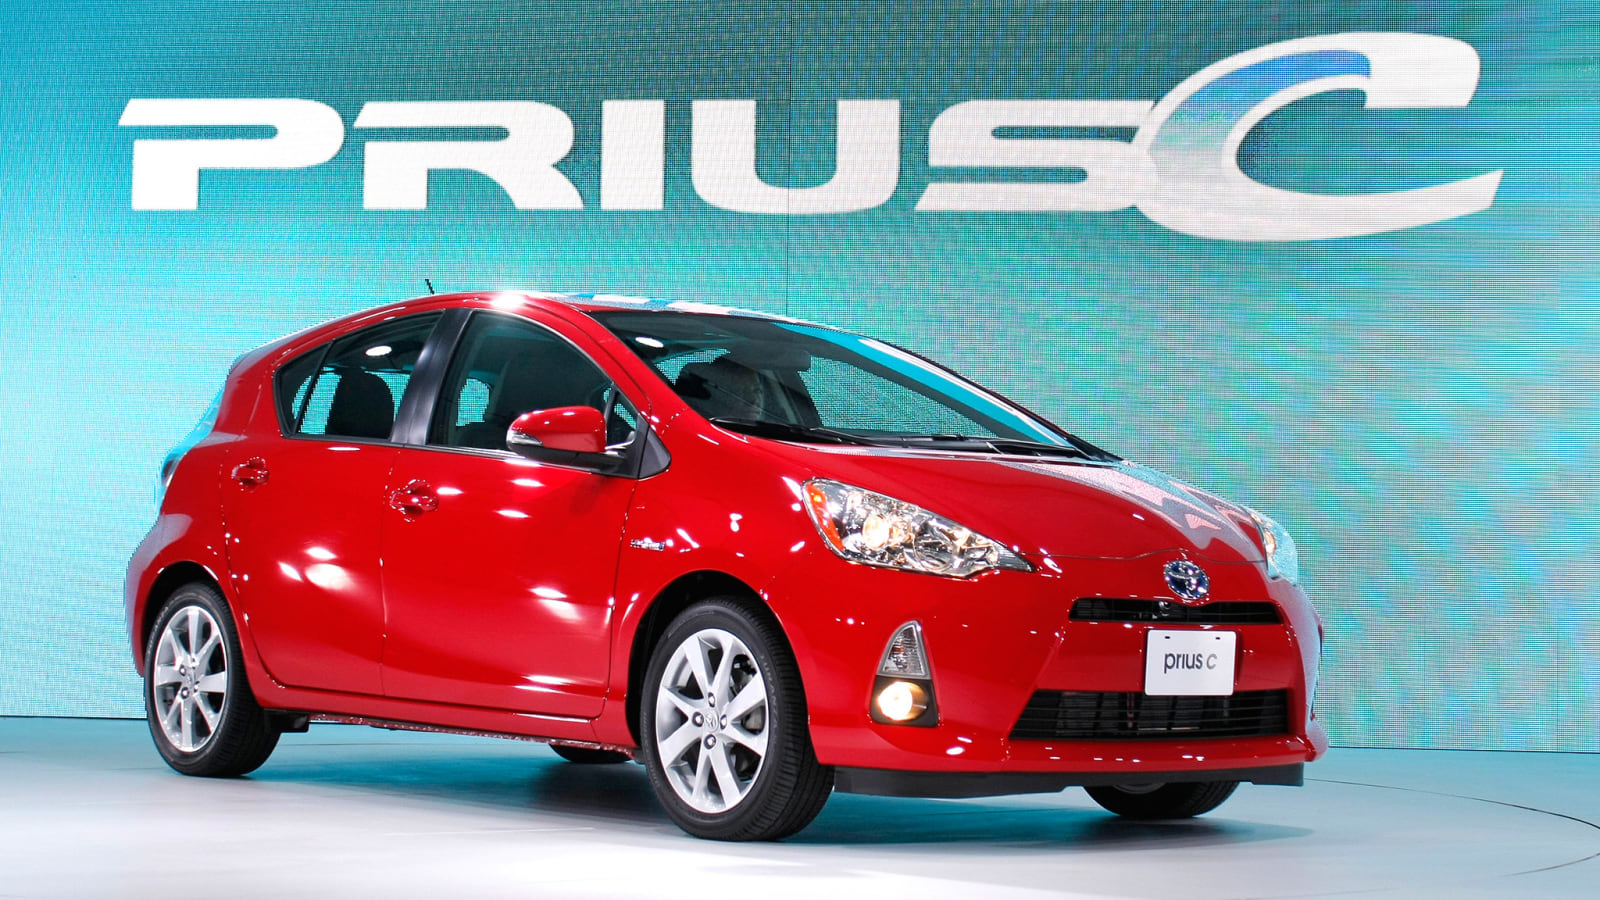Toyota Prius: (116, 282, 1334, 851)
